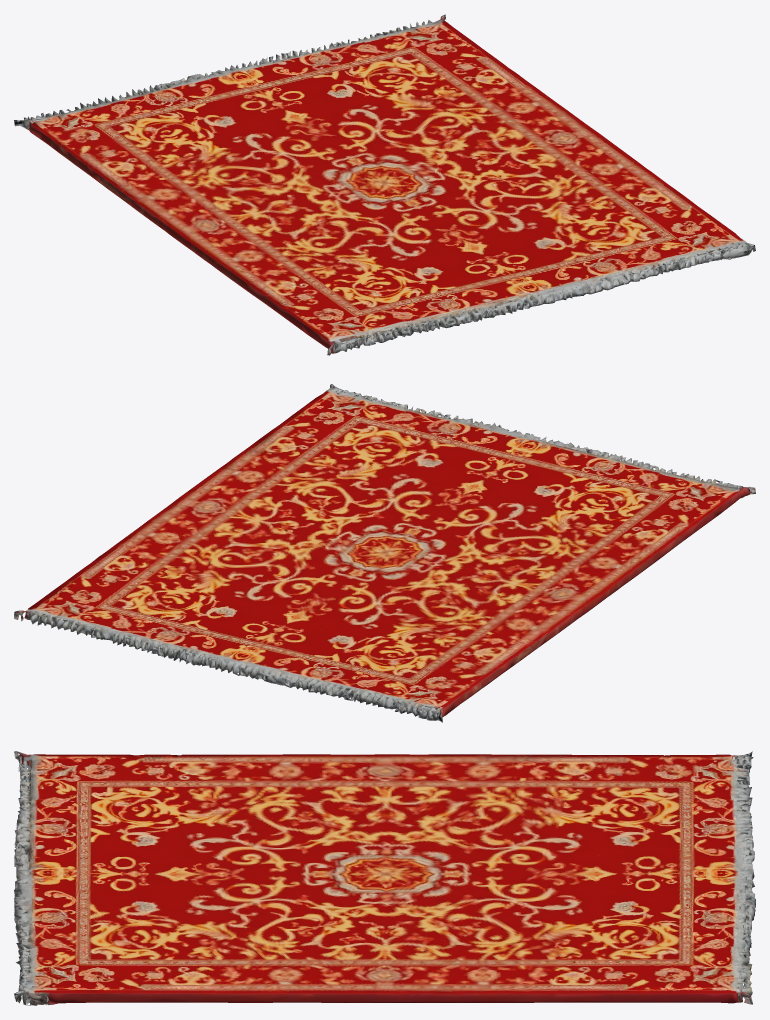
Rendered from Meshy_AI_An_elegant_antique_ca_0224030200_texture.glb.
3 views of the same model, one above another, from view 1: azimuth 30°, elevation 25°; view 2: azimuth 150°, elevation 25°; view 3: azimuth 270°, elevation 25° (orthographic). The views are drawn at different scales.
Size of the model in its own units: 1.58 by 0.0487 by 2.
1 material, 1 textured.
